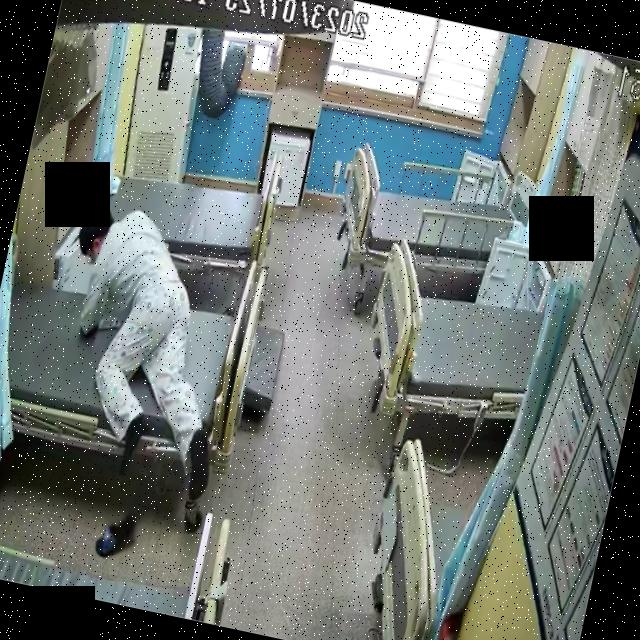bed: (0, 211, 273, 482), (75, 105, 289, 296), (353, 240, 548, 436), (332, 146, 520, 293)
danger: (29, 199, 260, 504)
patient: (30, 192, 264, 505)
